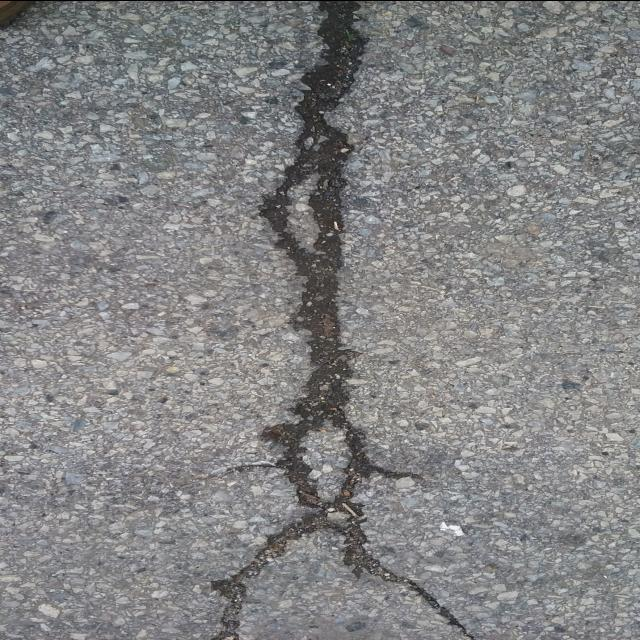Crack: (210, 0, 479, 640)
